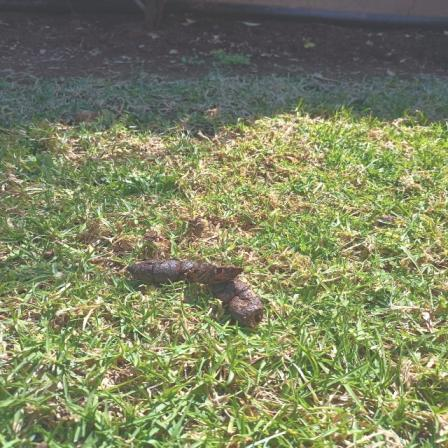dog-poop: (127, 255, 270, 326)
